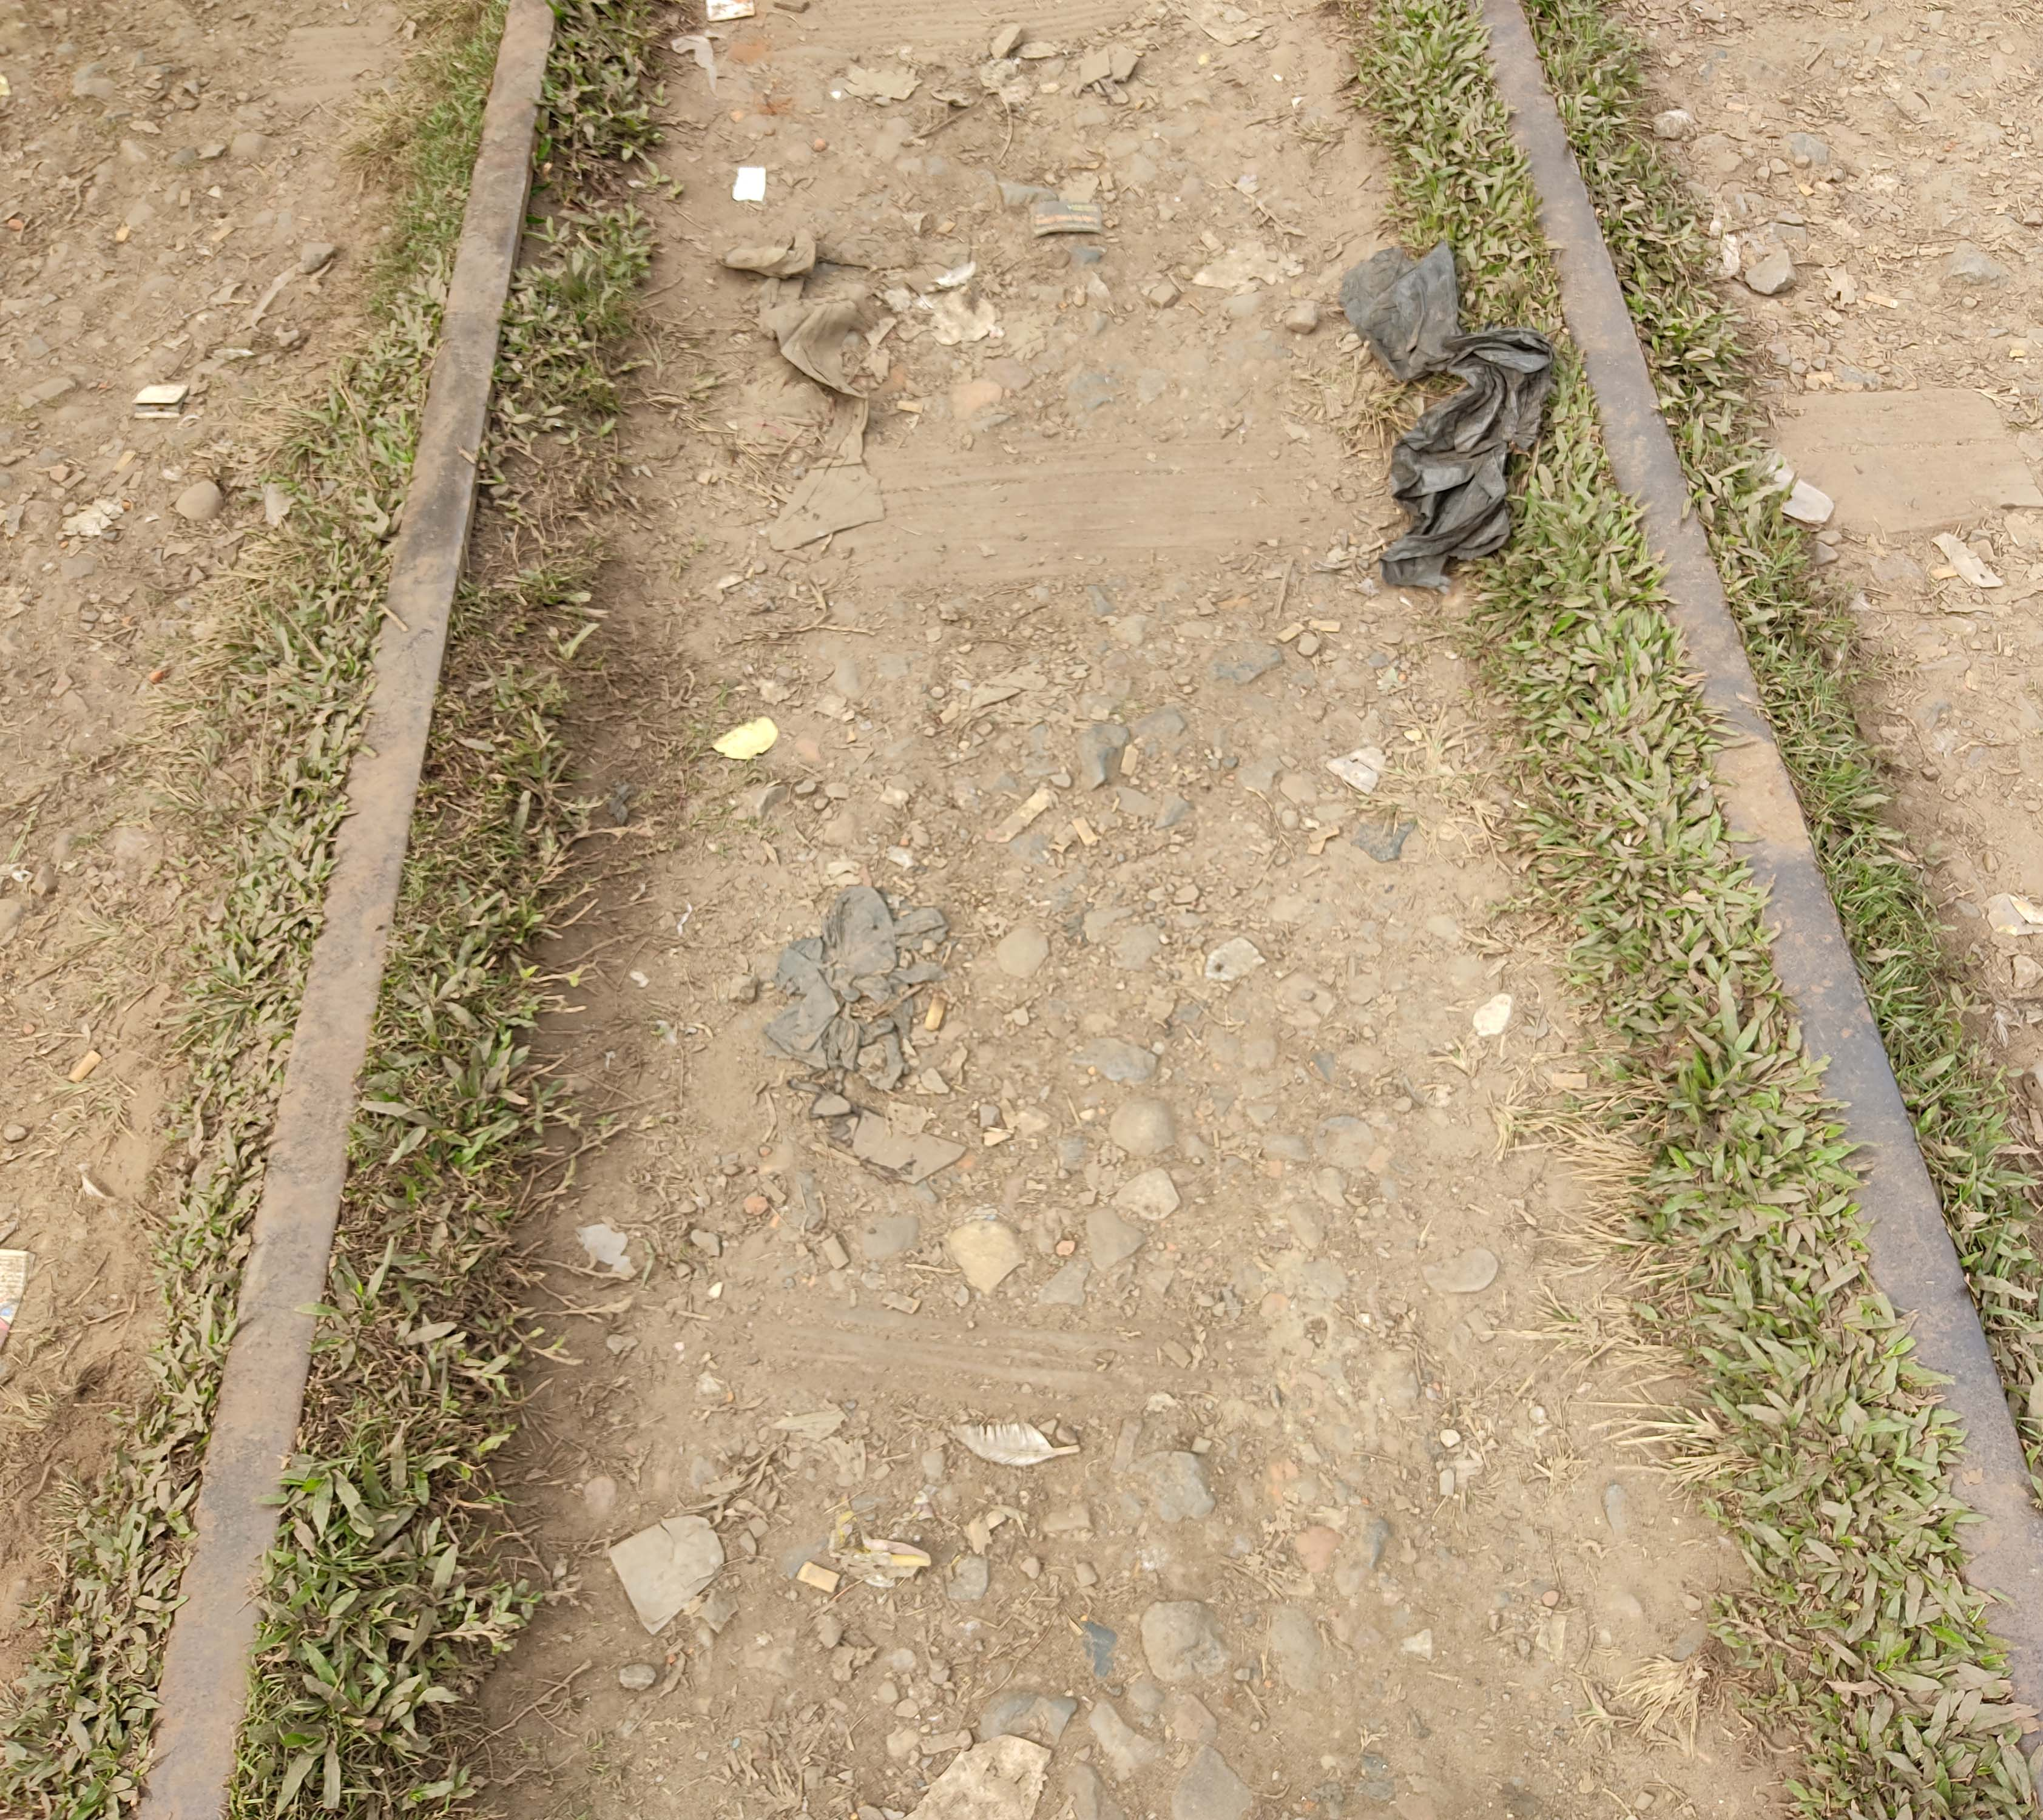error3: (1686, 671, 1881, 931)
